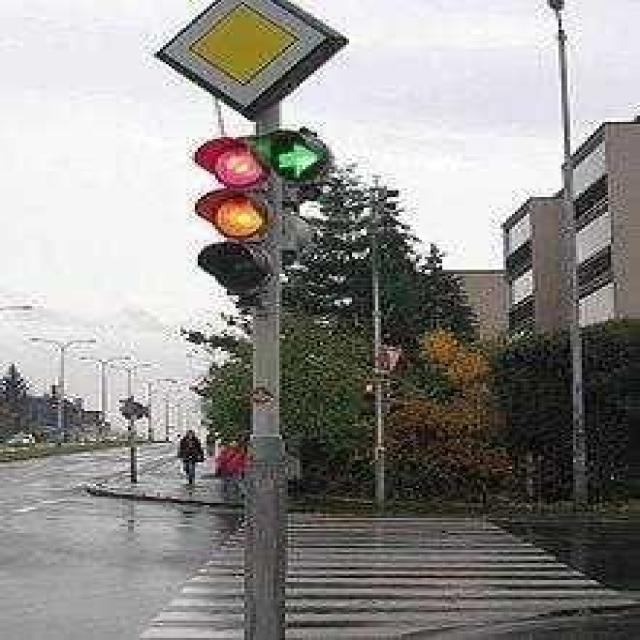Traffic Light -Green-: (258, 128, 337, 190)
Traffic Light -Red-: (193, 133, 272, 190)
Traffic Light -Yellow-: (184, 193, 279, 243)
